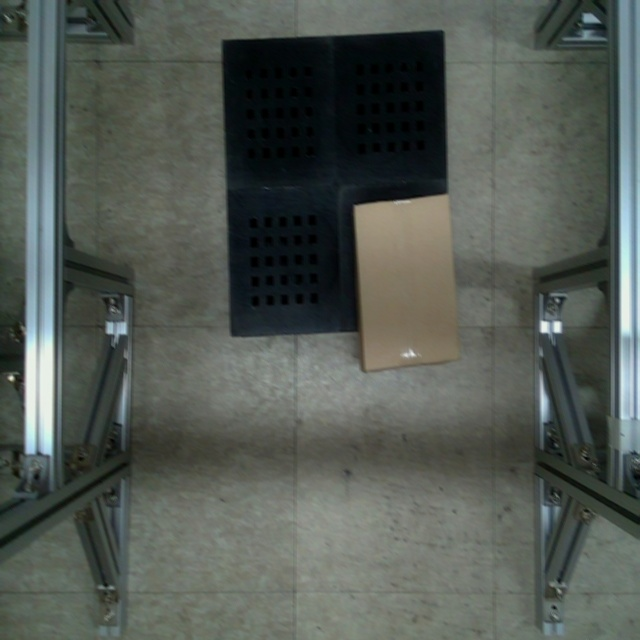box: (353, 188, 462, 373)
pallet: (216, 25, 462, 342)
